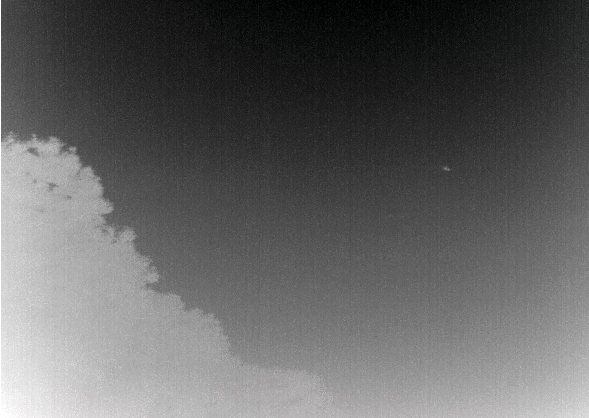dim target: (441, 164, 452, 173)
